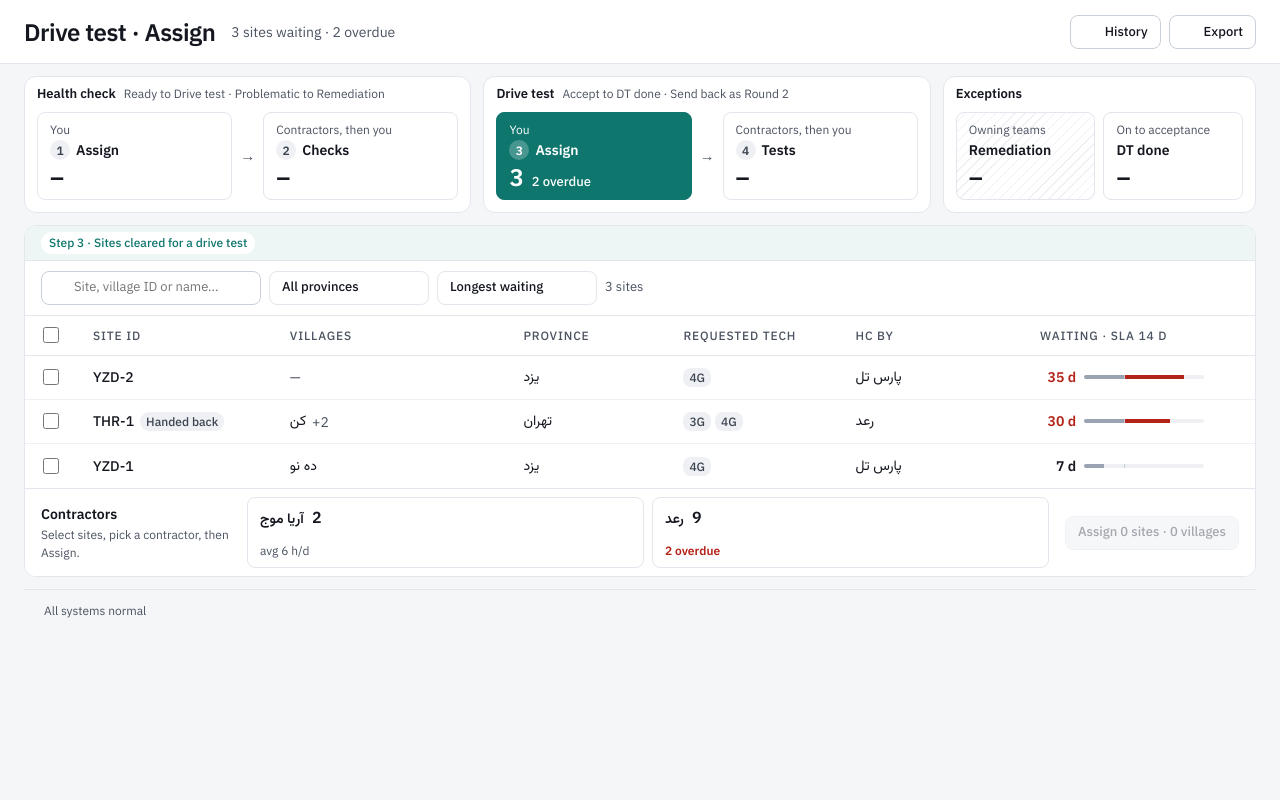
Test: assigning › says it is too late when the server refuses the undo
This screenshot has width=1280, height=800.
Click the checkbox named "Select YZD-1" at (51, 466), box [43,458,59,474]
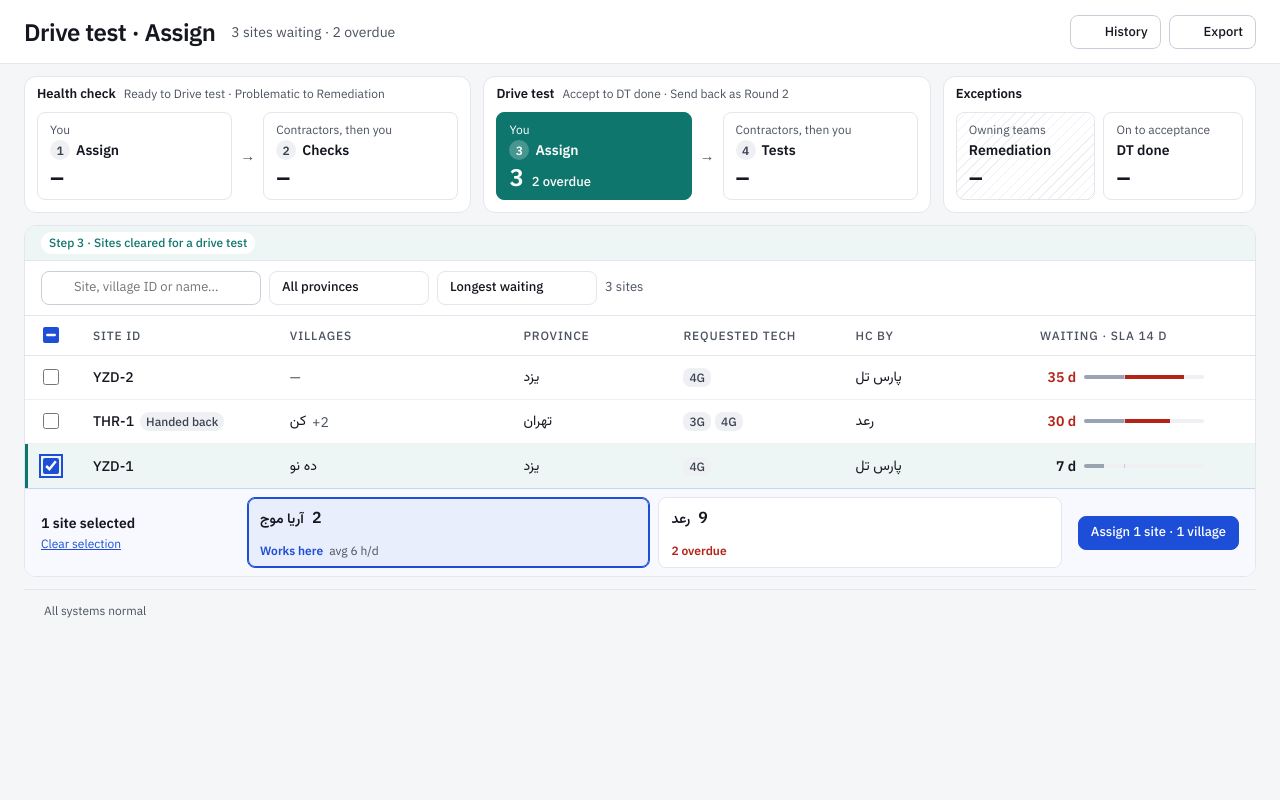
Click the radio button labelled "رعد 9 2 overdue" at (703, 551), box [658,497,1062,568]
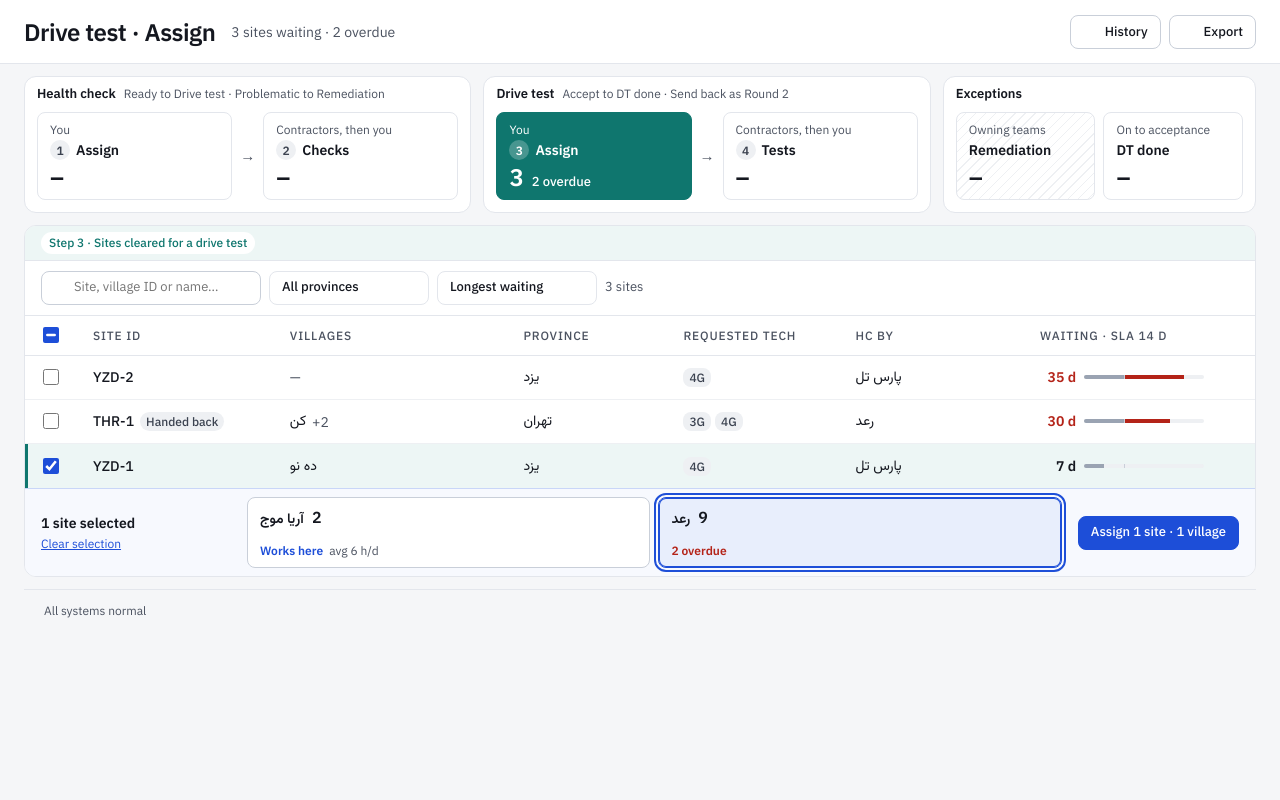
Click the button "Assign 1 site · 1 village" at (1158, 533), box [1078,516,1239,550]
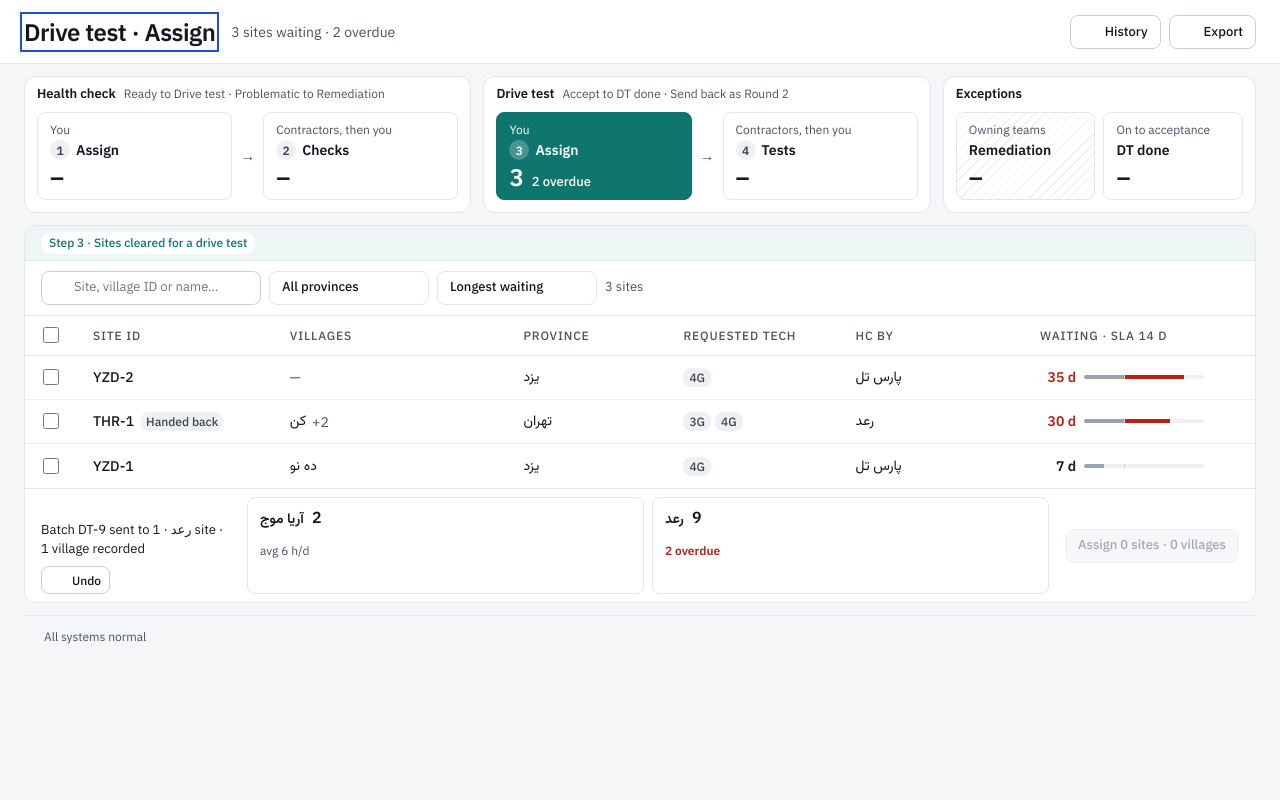
Expected: the text "Batch DT-9 sent to رعد · 1 site · 1 village recorded" is shown, [41,521,231,558]
Click the button "Undo" at (76, 580), box [41,566,110,594]
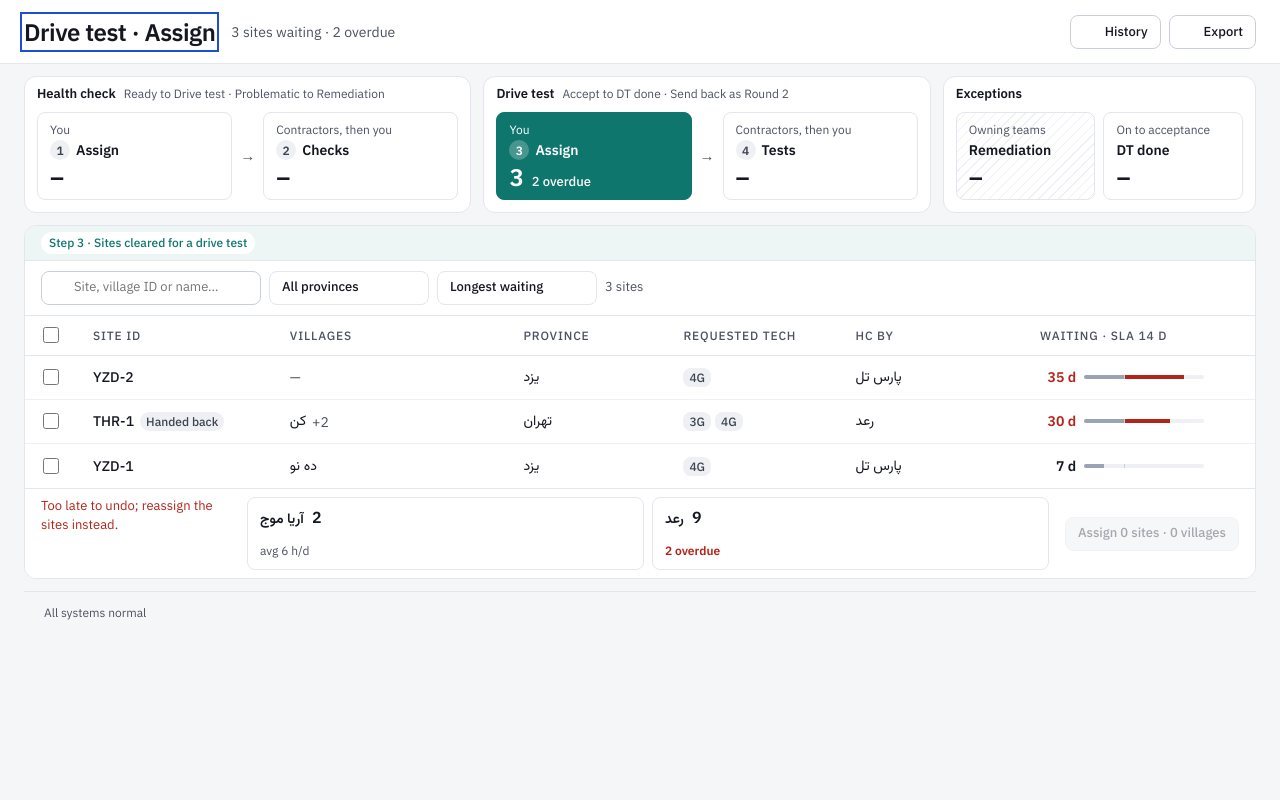
Expected: the text "Too late to undo; reassign the sites instead." is shown, [41,497,231,534]
